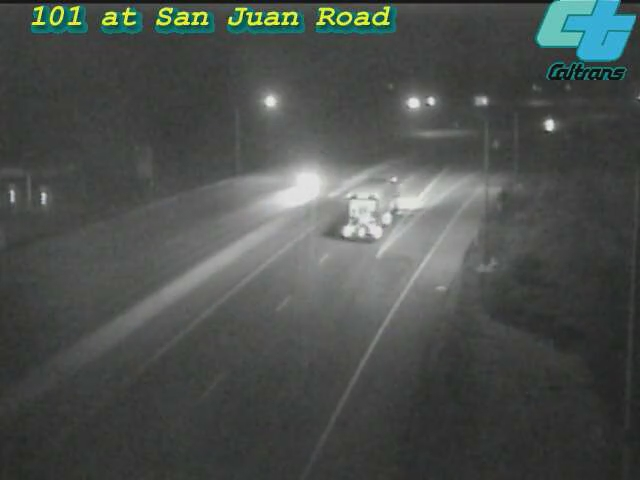vehicle: (267, 145, 347, 225), (326, 168, 406, 248), (525, 100, 575, 150)
